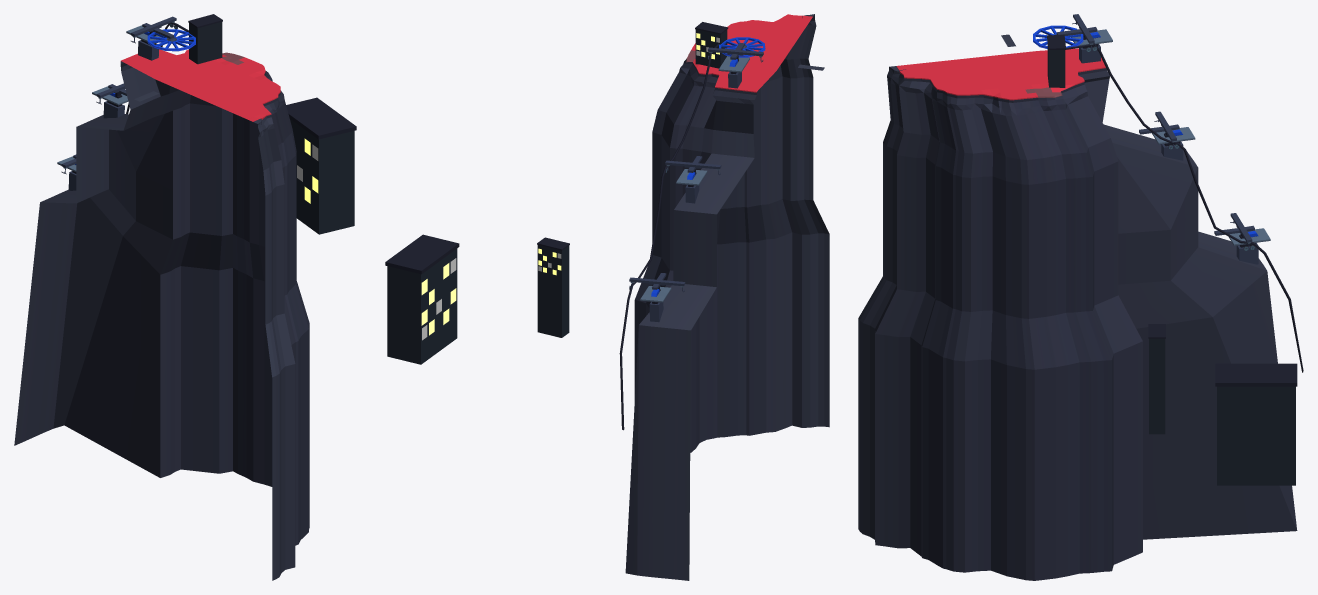
Rendered from EXT_BigCityx2_TooBigs.fbx.
The picture shows the model from 3 angles, left to right: view 1: azimuth 30°, elevation 25°; view 2: azimuth 150°, elevation 25°; view 3: azimuth 270°, elevation 25°; orthographic projection. The views are drawn at different scales.
Parts seen in each view (by area): view 1: Plane.191, Cube.009, PublicSkiLift.003, Cube.024; view 2: Plane.191, Cube.009, PublicSkiLift.003, Cube.014, Cube.024, NurbsPath; view 3: Plane.191, Cube.009, PublicSkiLift.003, Cube.014, NurbsPath, Cube.024.
Part boxes in pixels (x1,y1,x2,y2): Plane.191: (14, 49, 309, 580); Cube.009: (286, 97, 356, 234); PublicSkiLift.003: (57, 16, 195, 190); Cube.024: (188, 14, 222, 64); Plane.191: (625, 14, 829, 580); Cube.009: (385, 234, 459, 364); PublicSkiLift.003: (629, 37, 765, 322); Cube.014: (537, 237, 569, 337); Cube.024: (695, 22, 728, 68); NurbsPath: (619, 43, 719, 430); Plane.191: (858, 34, 1297, 580); Cube.009: (1215, 363, 1297, 485); PublicSkiLift.003: (1033, 14, 1270, 264); Cube.014: (1148, 324, 1165, 434); NurbsPath: (1065, 43, 1303, 372); Cube.024: (1047, 35, 1065, 87).
Size of the model in its own units: 164017 by 235438 by 189154.
